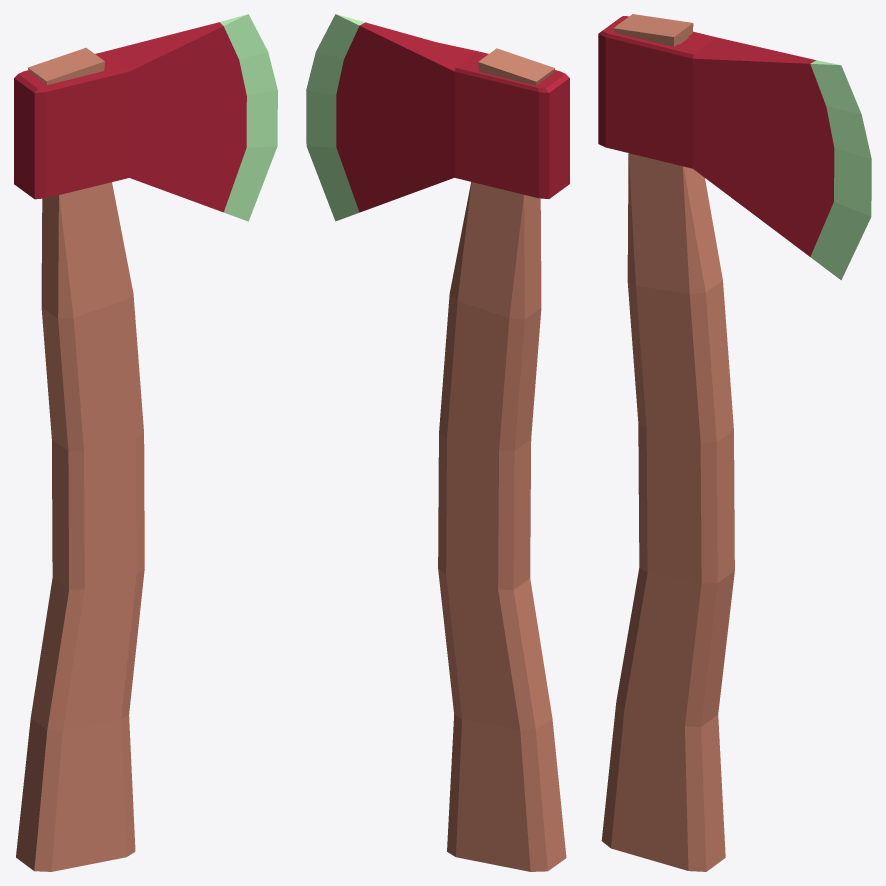
Rendered from LowPollyAxe.glb.
3 renders of one model, left to right at view 1: azimuth 30°, elevation 25°; view 2: azimuth 150°, elevation 25°; view 3: azimuth 330°, elevation 25°, orthographic. The views are drawn at different scales.
Parts seen in each view (by area): view 1: coada, topor; view 2: coada, topor; view 3: coada, topor.
Boxes of the visible parts, <box> form: coada: <box>16,47,144,871</box>; topor: <box>14,14,277,221</box>; coada: <box>438,48,566,871</box>; topor: <box>306,14,569,221</box>; coada: <box>601,14,734,871</box>; topor: <box>598,16,871,280</box>.
Bounding box in the file's own units: 10.02 × 30.28 × 1.84.
